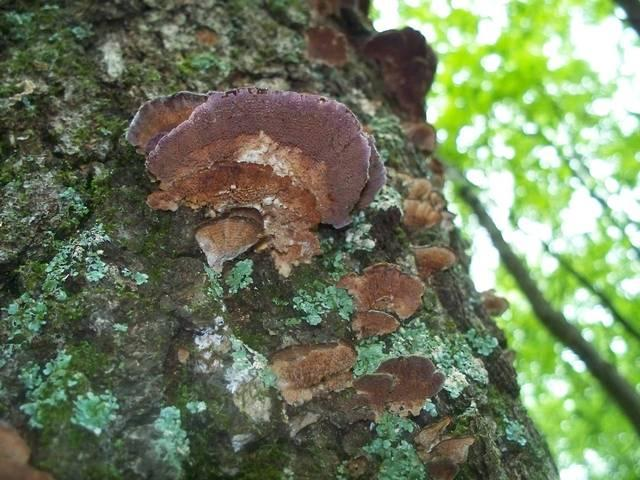Non-edible Mushroom: (125, 23, 454, 468)
